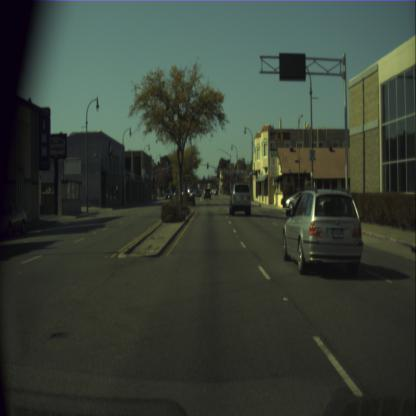Red: (206, 162, 209, 169)
